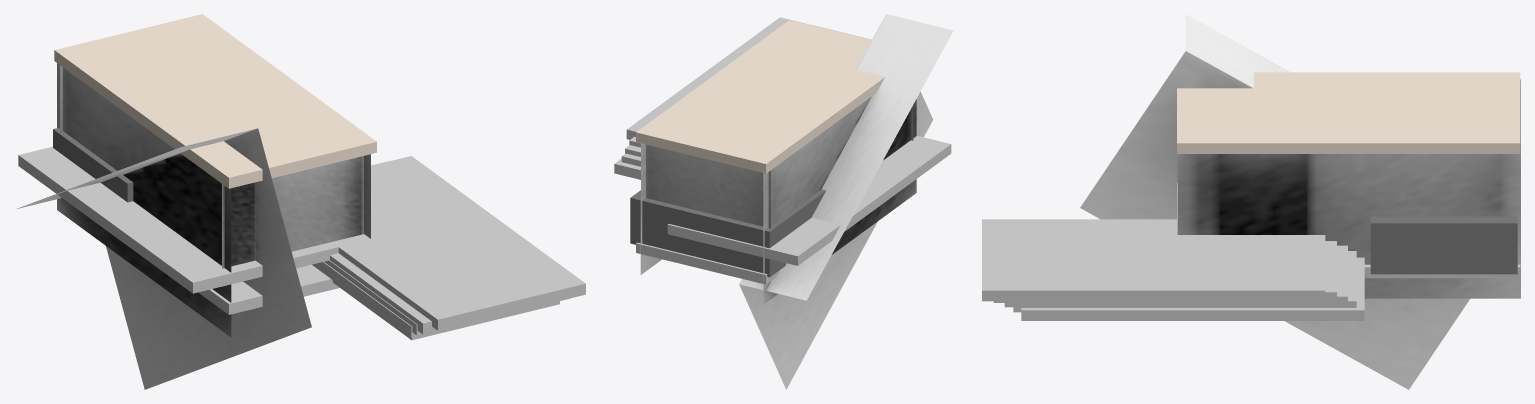
3 views of the same model, side by side, from view 1: azimuth 30°, elevation 25°; view 2: azimuth 150°, elevation 25°; view 3: azimuth 270°, elevation 25° (orthographic). The views are drawn at different scales.
Visible parts, largest first — view 1: Room, Cube__19_, Cube__13_, Cube__1_, Cube__12_, Cube__2_, Cube__17_, Cube__15_, Cube__14_, Cube__16_; view 2: Room, Cube__19_, Cube__2_, Cube__1_, Cube__13_, Cube__12_, Cube__14_; view 3: Room, Cube__19_, Cube__13_, Cube__2_, Cube__14_, Cube__16_, Cube__17_, Cube__15_, Cube__12_.
Part boxes in pixels (bbox=[...]): Room: bbox=[17, 63, 370, 389]; Cube__19_: bbox=[54, 14, 376, 188]; Cube__13_: bbox=[333, 156, 585, 330]; Cube__1_: bbox=[18, 146, 340, 293]; Cube__12_: bbox=[198, 264, 339, 314]; Cube__2_: bbox=[53, 128, 133, 202]; Cube__17_: bbox=[330, 253, 570, 334]; Cube__15_: bbox=[312, 262, 559, 337]; Cube__14_: bbox=[332, 280, 559, 340]; Cube__16_: bbox=[324, 160, 422, 335]; Room: bbox=[640, 14, 953, 389]; Cube__19_: bbox=[636, 20, 884, 173]; Cube__2_: bbox=[630, 189, 826, 277]; Cube__1_: bbox=[667, 136, 951, 265]; Cube__13_: bbox=[626, 17, 871, 139]; Cube__12_: bbox=[636, 242, 779, 284]; Cube__14_: bbox=[614, 158, 640, 179]; Room: bbox=[1080, 14, 1520, 389]; Cube__19_: bbox=[1177, 72, 1520, 153]; Cube__13_: bbox=[982, 219, 1325, 301]; Cube__2_: bbox=[1370, 216, 1517, 274]; Cube__14_: bbox=[1021, 257, 1364, 320]; Cube__16_: bbox=[1004, 245, 1347, 307]; Cube__17_: bbox=[993, 241, 1336, 302]; Cube__15_: bbox=[1013, 251, 1356, 312]; Cube__12_: bbox=[1364, 264, 1520, 278].
Size of the model in its own units: 1440 by 1575 by 2269.
